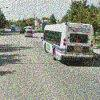buses: (44, 23, 94, 66)
